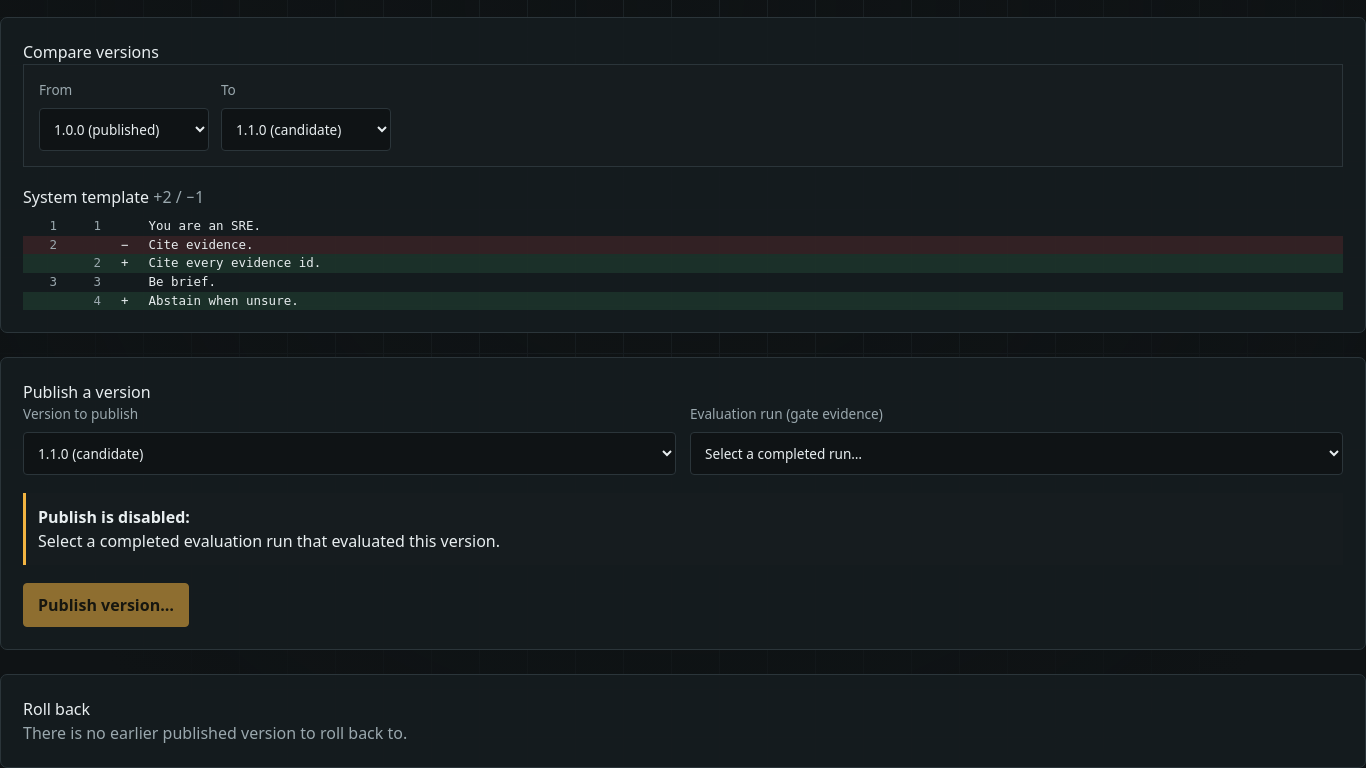
Test case: prompts › blocks soft-gate overrides for admins
(page scrolled)
Select "Oct 31, 2026, 10:00 AM · candidate · 9/10 passed · dddddddd" in the dropdown labelled "Evaluation run (gate evidence)" at (1016, 453), box 690,432 -> 1343,475
(page scrolled)
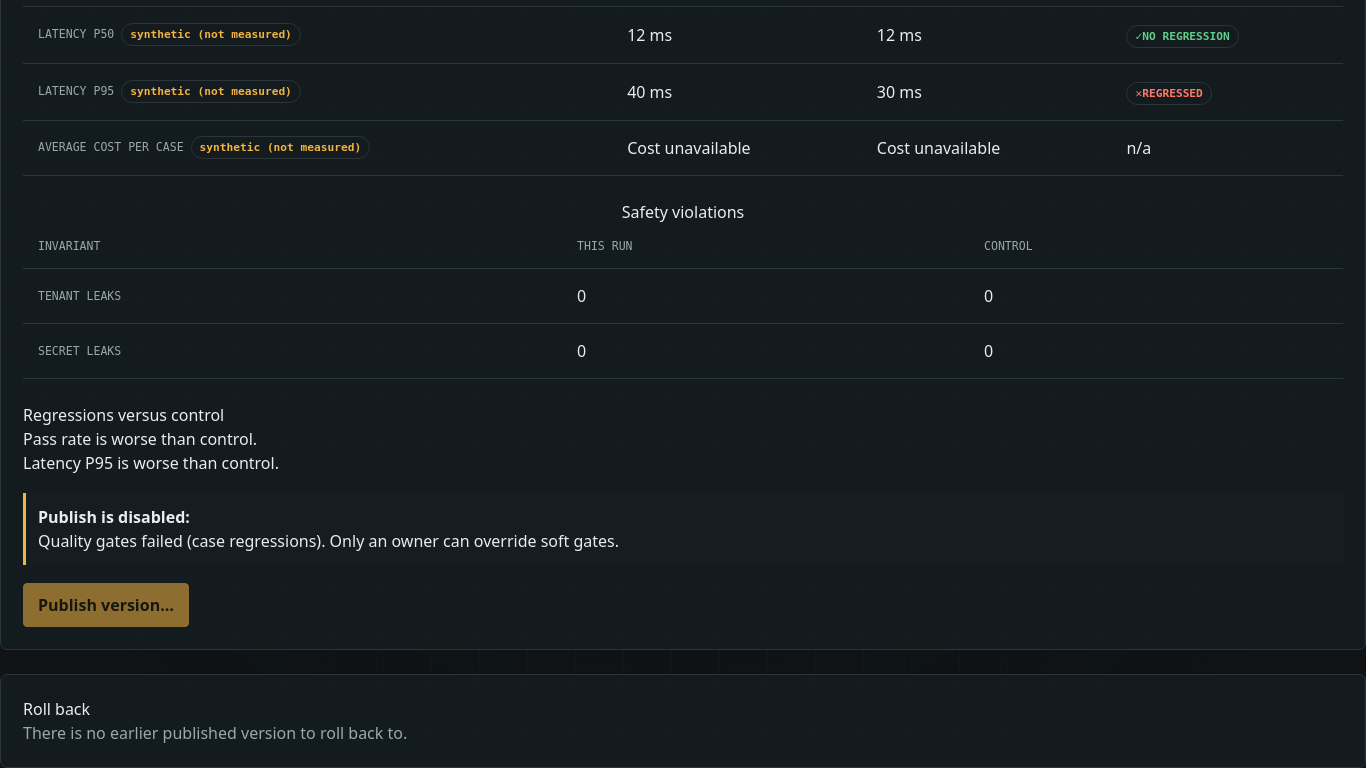
Expected: the button "Publish version…" is disabled, 23,583 -> 189,627
Result: the list item "Only an owner can override" is shown at 38,530 -> 619,552
